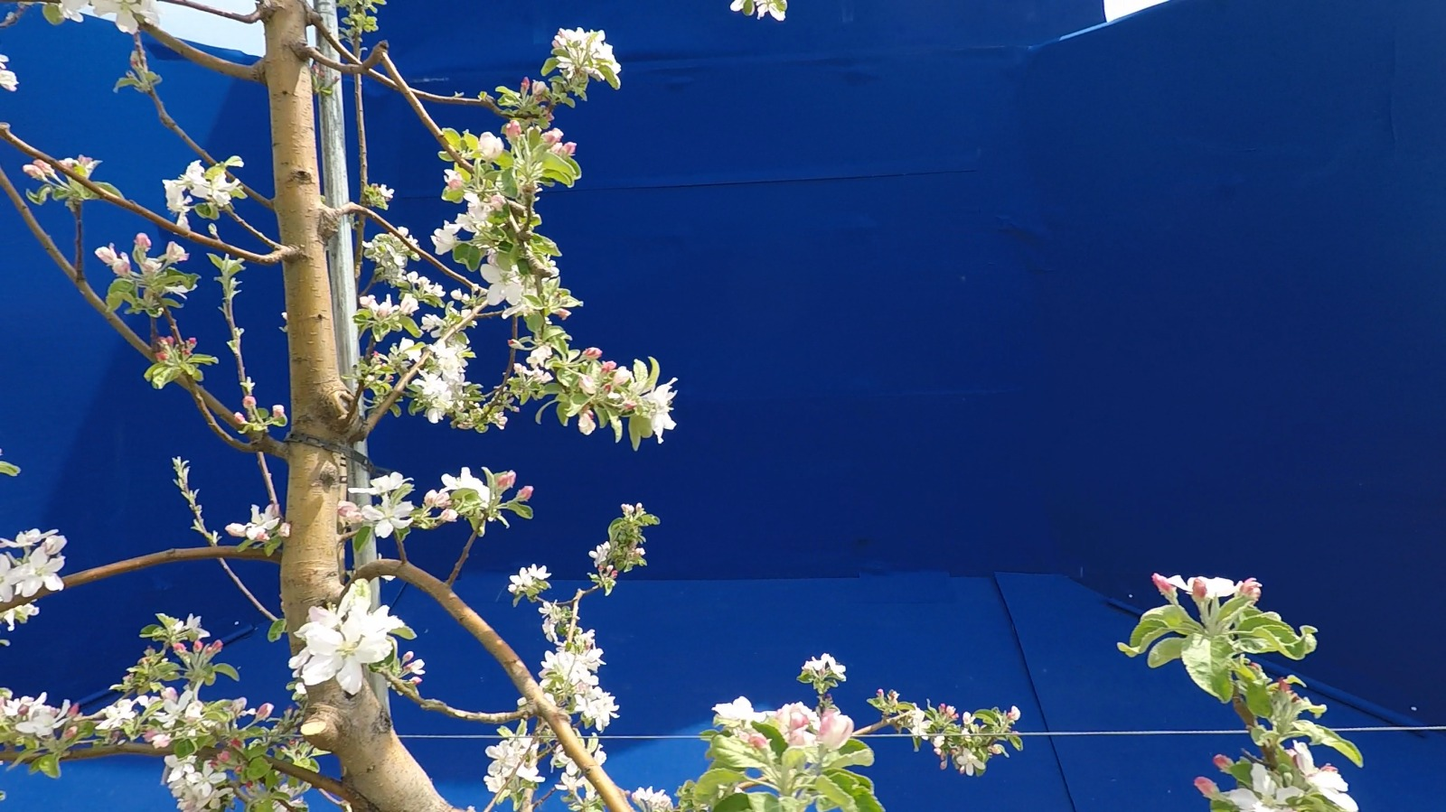flower: (289, 583, 405, 695), (541, 618, 620, 732), (713, 697, 853, 750), (412, 329, 472, 424), (1285, 741, 1358, 812), (338, 472, 415, 538), (163, 161, 232, 232), (0, 529, 66, 602), (0, 688, 89, 742), (431, 191, 501, 256), (162, 755, 236, 812), (1226, 763, 1302, 812), (59, 0, 162, 34), (481, 248, 529, 320), (484, 738, 545, 793), (552, 28, 621, 75), (1156, 574, 1240, 609), (149, 685, 205, 728), (641, 378, 678, 443), (551, 744, 588, 804), (96, 696, 161, 730), (427, 468, 491, 501), (226, 502, 280, 540), (361, 294, 419, 317), (509, 565, 551, 595), (803, 654, 847, 682), (633, 787, 673, 812), (407, 272, 446, 297), (908, 704, 934, 736), (957, 748, 985, 776), (527, 342, 553, 369), (589, 542, 613, 568), (421, 314, 446, 338), (405, 343, 427, 363), (0, 70, 19, 90), (539, 602, 553, 617), (400, 338, 414, 350), (0, 54, 10, 62)
